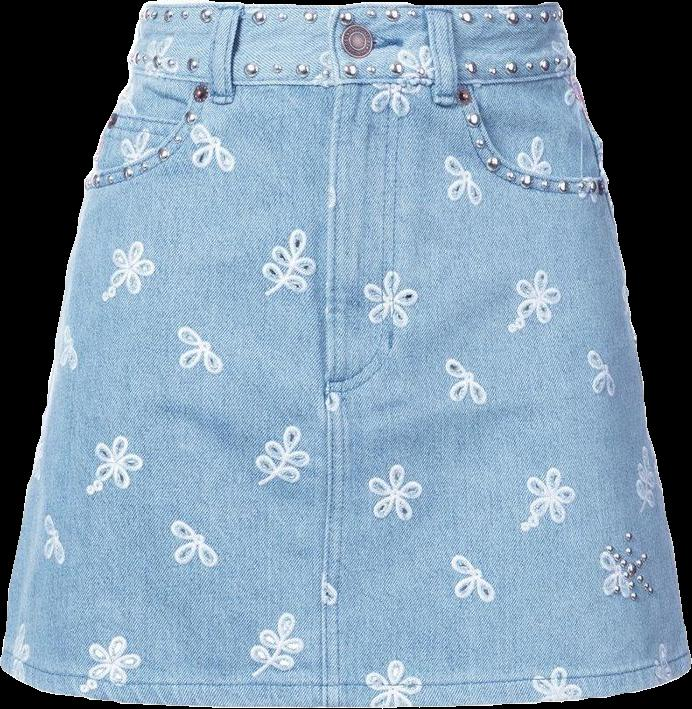Hemline: (0, 660, 691, 708)
Waistline: (126, 68, 579, 91), (139, 1, 560, 15)
